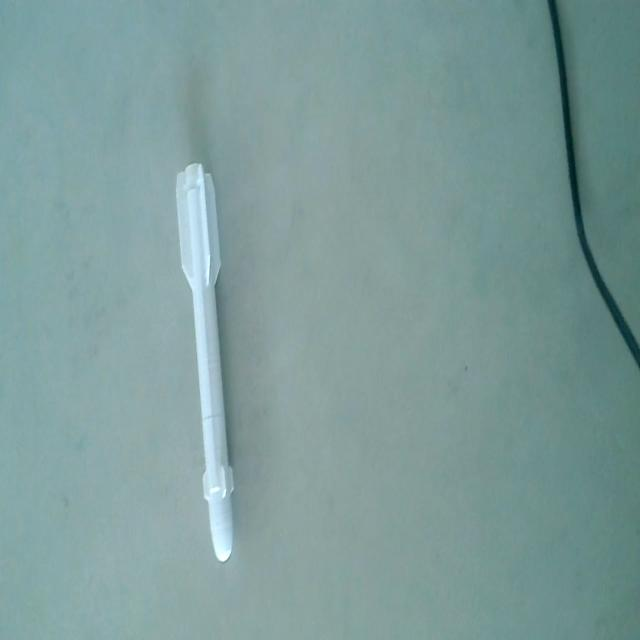Rocket: (170, 156, 240, 566)
